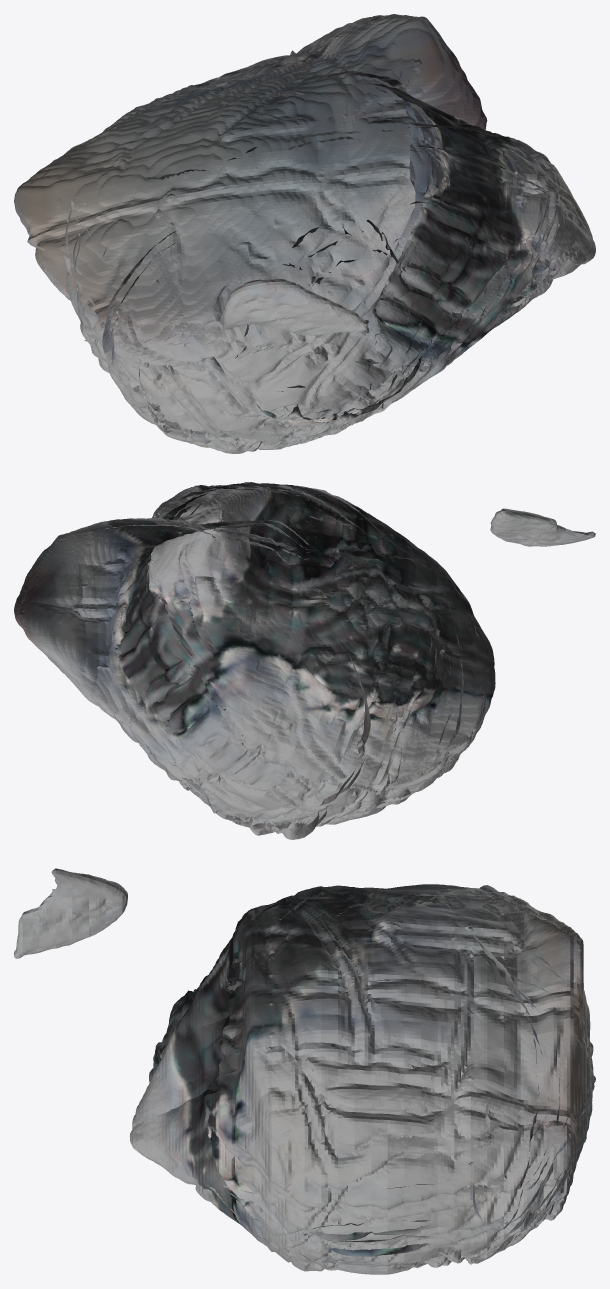
Rendered from helmet_offroad.glb.
The picture shows the model from 3 angles, top to bottom: view 1: azimuth 30°, elevation 25°; view 2: azimuth 150°, elevation 25°; view 3: azimuth 270°, elevation 25°; orthographic projection. The views are drawn at different scales.
Parts seen in each view (by area): view 1: geometry_0; view 2: geometry_0; view 3: geometry_0.
Boxes of the visible parts, box(x1,y1,x2,y2) form: geometry_0: box(14, 14, 595, 453); geometry_0: box(14, 482, 595, 839); geometry_0: box(14, 868, 595, 1274).
Size of the model in its own units: 0.975 by 0.6686 by 0.9564.
